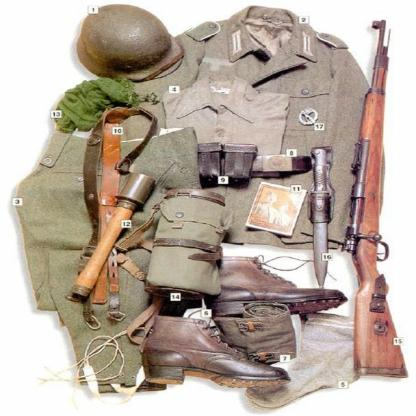Grenade: (72, 169, 157, 306)
Gun: (341, 17, 412, 380)
Knife: (307, 145, 340, 289)
